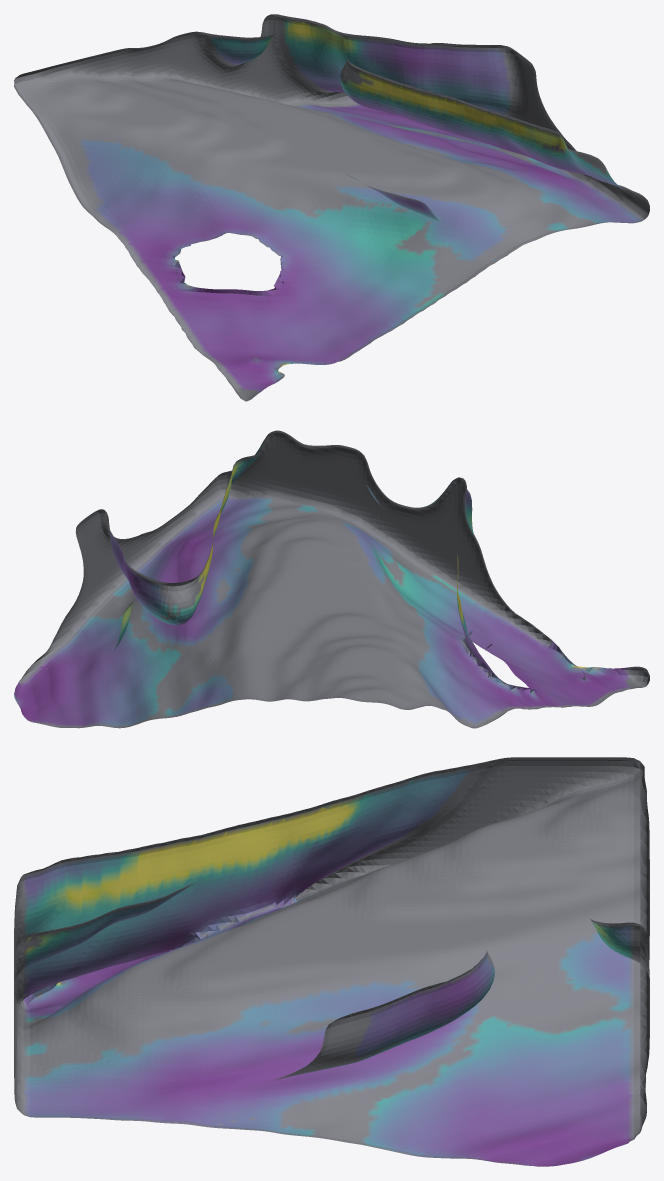
File: crop1136.glb
The picture shows the model from 3 angles, top to bottom: view 1: azimuth 30°, elevation 25°; view 2: azimuth 150°, elevation 25°; view 3: azimuth 270°, elevation 25°; orthographic projection. The views are drawn at different scales.
Parts seen in each view (by area): view 1: geometry_0; view 2: geometry_0; view 3: geometry_0.
Part boxes in pixels (x1,y1,x2,y2): geometry_0: [14, 14, 649, 401]; geometry_0: [14, 430, 649, 728]; geometry_0: [14, 757, 649, 1166].
Bounding box in the file's own units: 800 × 296 × 800.
